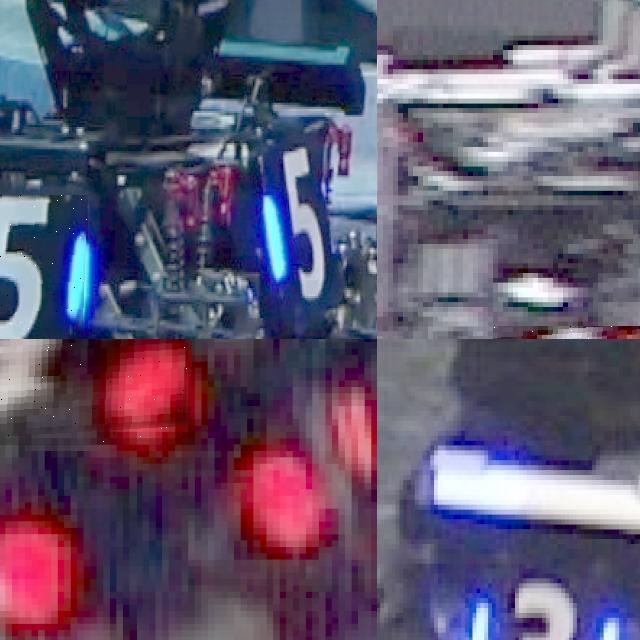B3: (463, 566, 632, 640)
B5: (0, 195, 88, 339)
R4: (0, 339, 194, 444)
